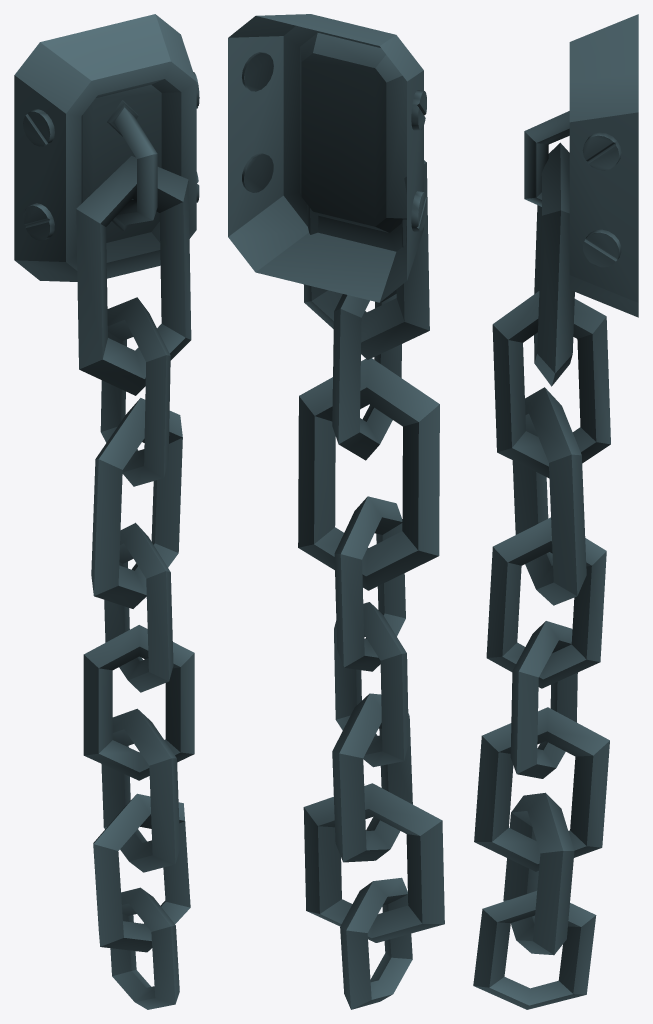
The model's file is obj_chain_hang_B.FBX.
The picture shows the model from 3 angles, left to right: view 1: azimuth 30°, elevation 25°; view 2: azimuth 150°, elevation 25°; view 3: azimuth 270°, elevation 25°; orthographic projection. The views are drawn at different scales.
Parts seen in each view (by area): view 1: obj_chain_hang_B; view 2: obj_chain_hang_B; view 3: obj_chain_hang_B.
Part boxes in pixels (<box>): obj_chain_hang_B: <box>14,14,199,1009</box>; obj_chain_hang_B: <box>228,14,444,1009</box>; obj_chain_hang_B: <box>473,14,638,1009</box>.
Bounding box in the file's own units: 0.3699 × 1.98 × 0.3063.
